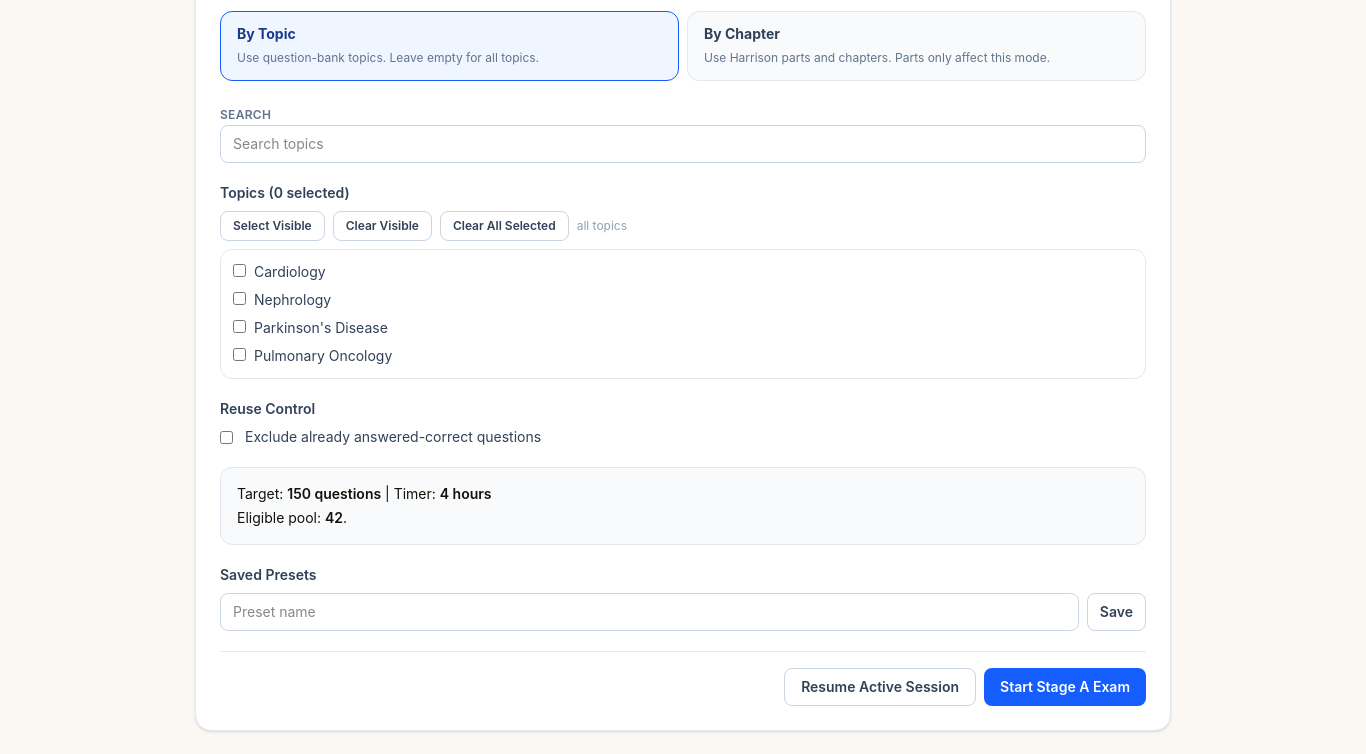
Test: ExamsPage › Finalize Exam transitions to review with report
The image size is (1366, 754).
(page scrolled)
Click the button "Start Stage A Exam" at (1065, 687), box [984, 668, 1146, 706]
(page scrolled)
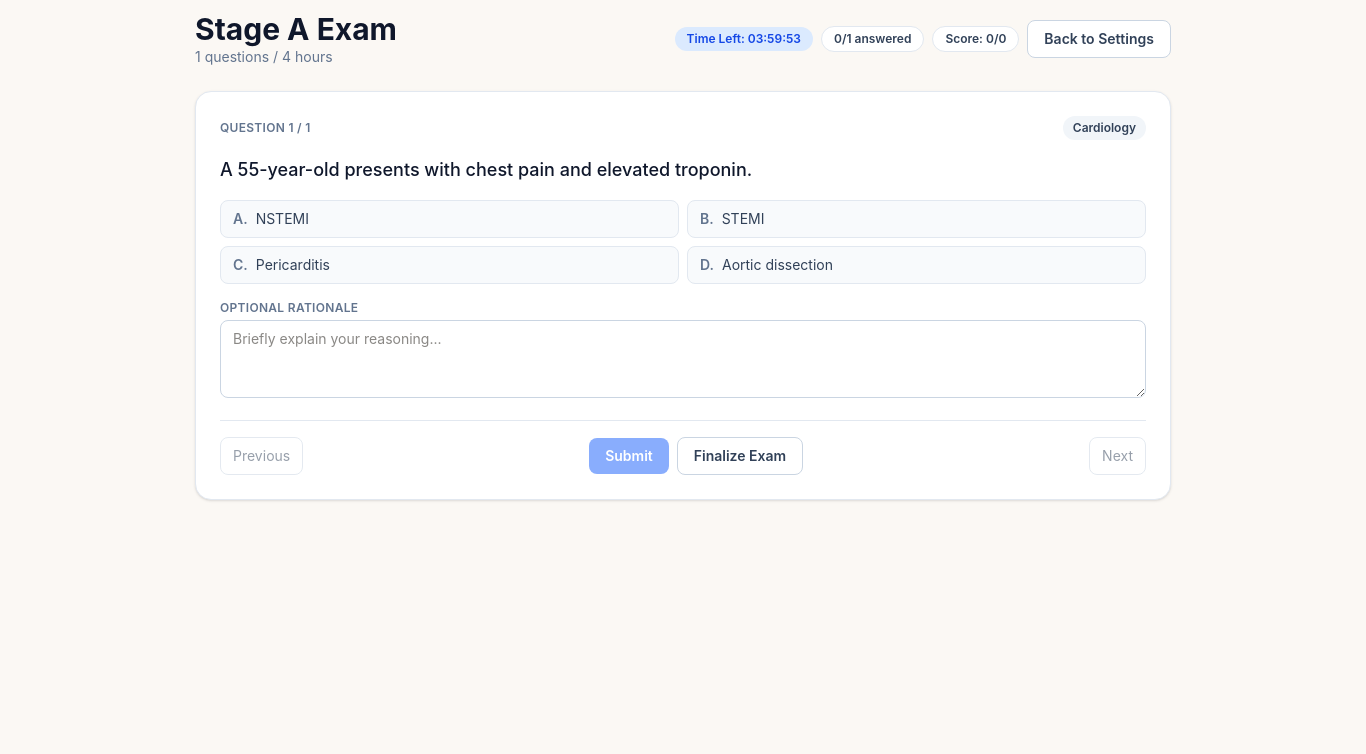
Check: the text "A 55-year-old presents with chest pain and elevated troponin." is shown, box [220, 159, 752, 180]
Click the button "Finalize Exam" at (740, 456), box [677, 437, 803, 475]
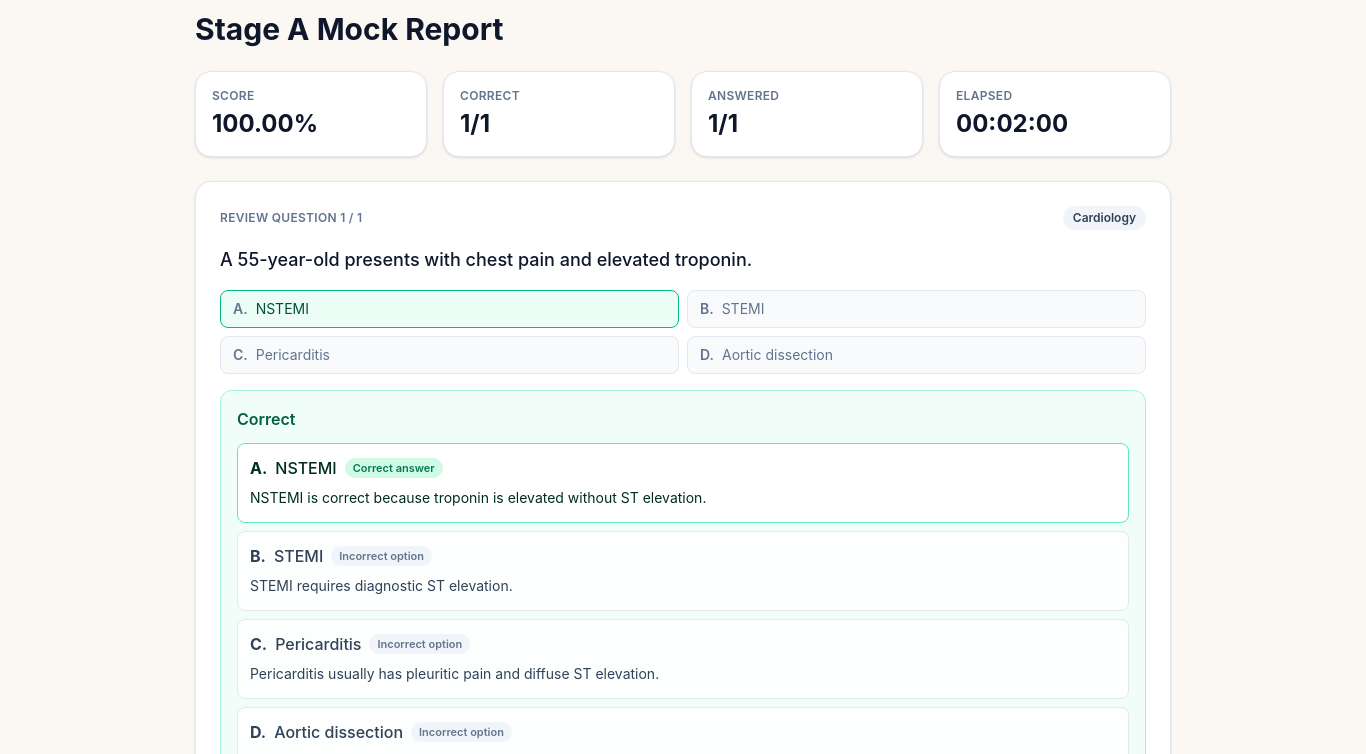
Check: the heading "Stage A Mock Report" is shown, box [195, 11, 503, 47]
Check: the text "100.00%" is shown, box [212, 109, 318, 138]
